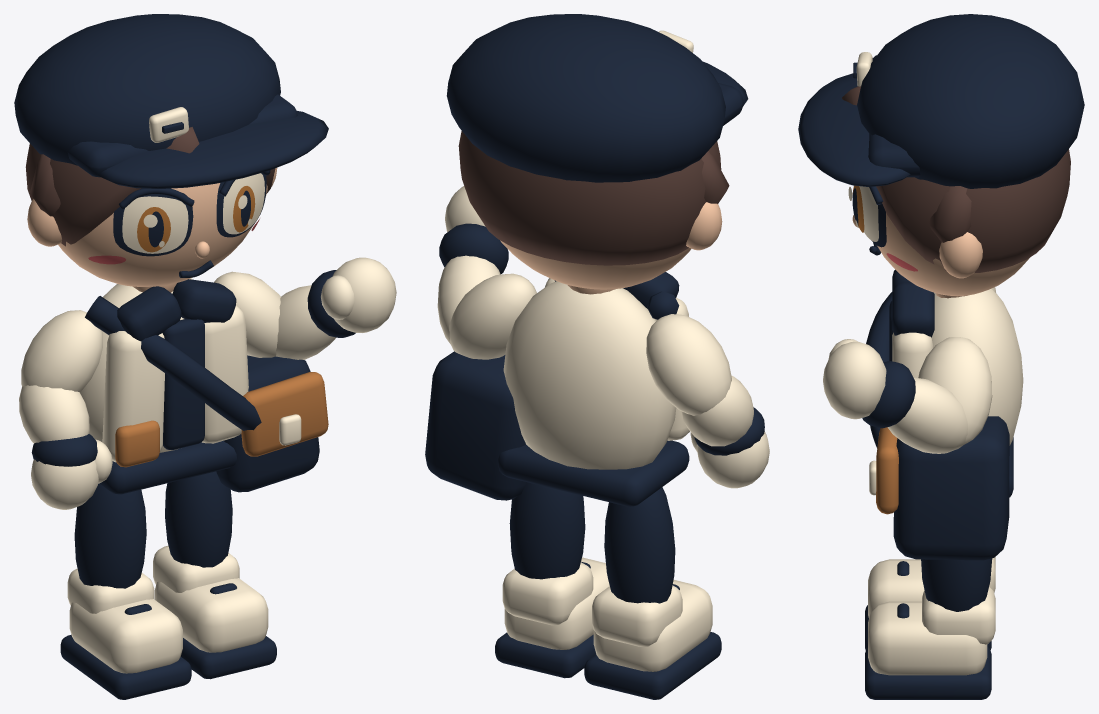
Rendered from customer.glb.
The picture shows the model from 3 angles, left to right: view 1: azimuth 30°, elevation 25°; view 2: azimuth 150°, elevation 25°; view 3: azimuth 270°, elevation 25°; orthographic projection. The views are drawn at different scales.
Parts seen in each view (by area): view 1: customer_Head_Volume, customer_Body_Volume, customer_LeftLeg_Volume, customer_RightLeg_Volume, customer_LeftArm_Volume, customer_RightArm_Volume; view 2: customer_Head_Volume, customer_Body_Volume, customer_LeftLeg_Volume, customer_RightLeg_Volume, customer_LeftArm_Volume, customer_RightArm_Volume; view 3: customer_Head_Volume, customer_Body_Volume, customer_RightLeg_Volume, customer_RightArm_Volume, customer_LeftLeg_Volume.
Part boxes in pixels (x1,y1,x2,y2): customer_Head_Volume: [14, 14, 328, 292]; customer_Body_Volume: [80, 278, 328, 494]; customer_LeftLeg_Volume: [60, 483, 191, 699]; customer_RightLeg_Volume: [153, 471, 276, 679]; customer_LeftArm_Volume: [19, 310, 112, 509]; customer_RightArm_Volume: [214, 257, 396, 359]; customer_Head_Volume: [446, 14, 748, 294]; customer_Body_Volume: [425, 272, 689, 506]; customer_LeftLeg_Volume: [584, 487, 721, 699]; customer_RightLeg_Volume: [495, 482, 609, 678]; customer_LeftArm_Volume: [646, 314, 769, 488]; customer_RightArm_Volume: [437, 186, 536, 359]; customer_Head_Volume: [798, 14, 1084, 298]; customer_Body_Volume: [866, 269, 1023, 560]; customer_RightLeg_Volume: [865, 558, 995, 699]; customer_RightArm_Volume: [823, 337, 992, 453]; customer_LeftLeg_Volume: [865, 557, 995, 650].
Size of the model in its own units: 1.35 by 2.4 by 0.9941.
